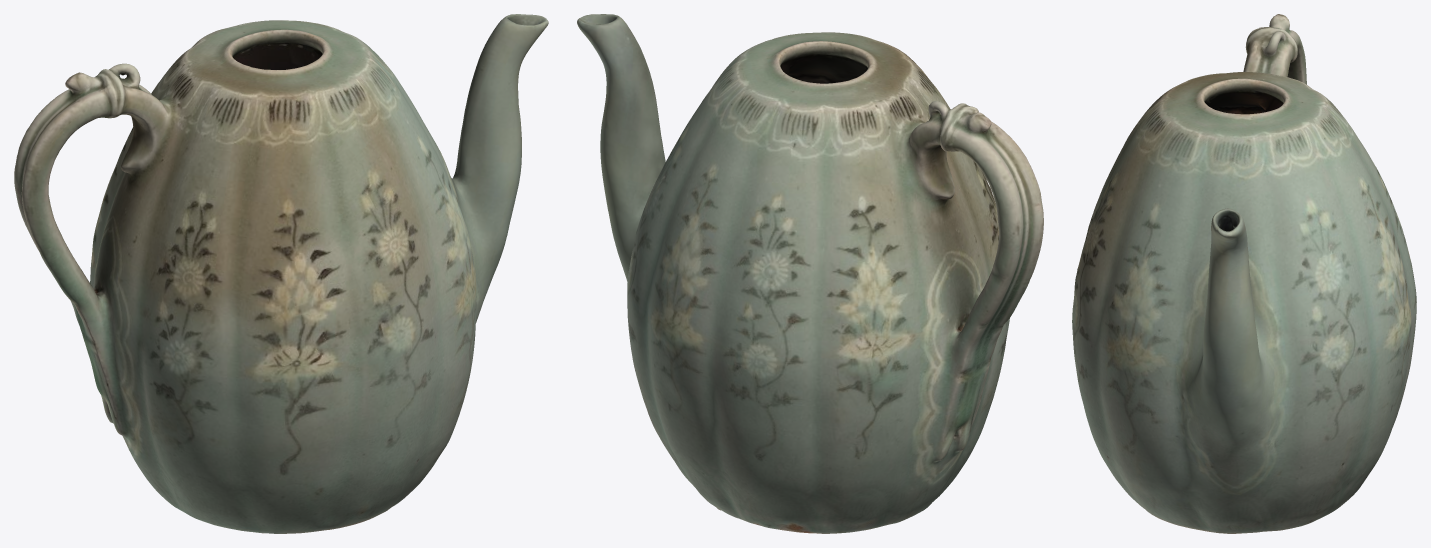
The model's file is pitcher.glb.
The picture shows the model from 3 angles, left to right: view 1: azimuth 30°, elevation 25°; view 2: azimuth 150°, elevation 25°; view 3: azimuth 270°, elevation 25°; orthographic projection. The views are drawn at different scales.
Parts seen in each view (by area): view 1: Object_2; view 2: Object_2; view 3: Object_2.
Boxes of the visible parts, bbox=[...] form: Object_2: bbox=[14, 14, 548, 533]; Object_2: bbox=[577, 14, 1043, 533]; Object_2: bbox=[1072, 14, 1416, 533].
Size of the model in its own units: 0.2272 by 0.1919 by 0.1515.
1 material, 1 textured.
